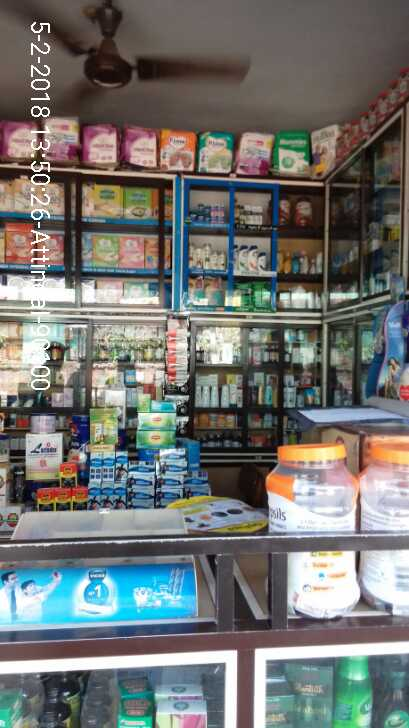vicks: (190, 201, 233, 229)
